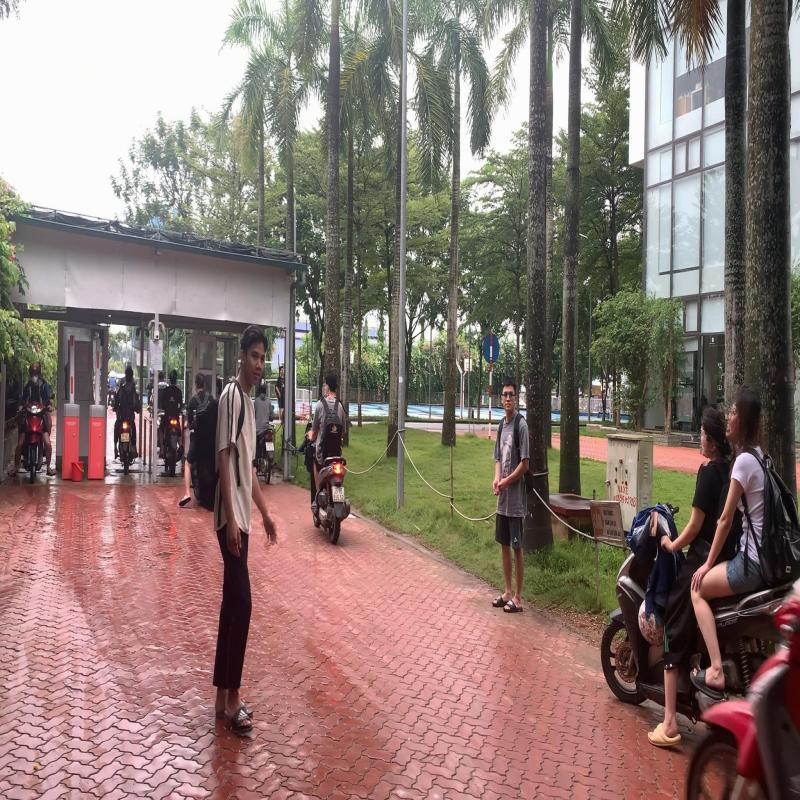nohelmet: (726, 385, 766, 447), (696, 403, 734, 465), (322, 370, 338, 398), (194, 370, 206, 391)
